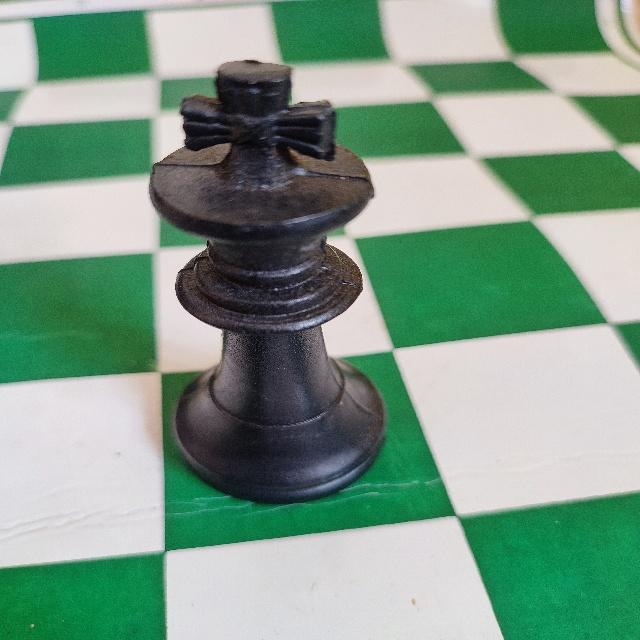King: (142, 54, 388, 505)
